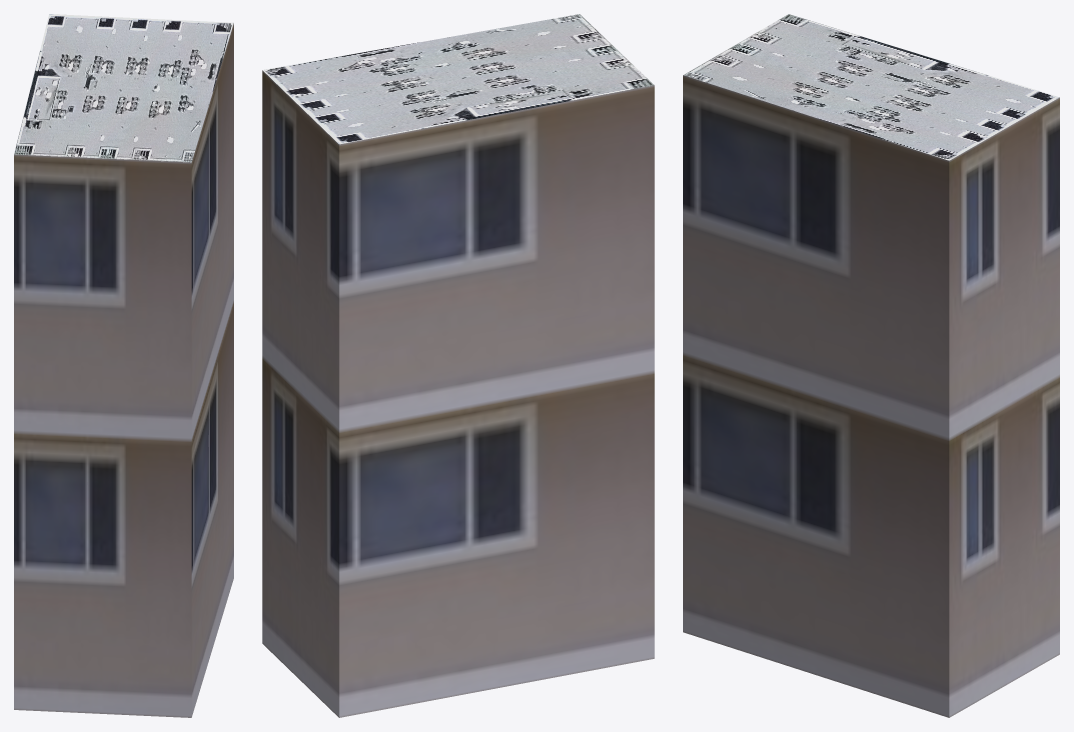
Rendered from ResTex__900.fbx.
3 views of the same model, side by side, from view 1: azimuth 30°, elevation 25°; view 2: azimuth 150°, elevation 25°; view 3: azimuth 270°, elevation 25° (orthographic). The views are drawn at different scales.
Parts seen in each view (by area): view 1: CityEngineMaterial_21_m, CityEngineMaterial_2_m; view 2: CityEngineMaterial_21_m, CityEngineMaterial_2_m; view 3: CityEngineMaterial_21_m, CityEngineMaterial_2_m.
Boxes of the visible parts, bbox=[...] form: CityEngineMaterial_21_m: bbox=[14, 23, 233, 717]; CityEngineMaterial_2_m: bbox=[14, 14, 233, 162]; CityEngineMaterial_21_m: bbox=[262, 70, 654, 717]; CityEngineMaterial_2_m: bbox=[262, 14, 654, 144]; CityEngineMaterial_21_m: bbox=[683, 75, 1059, 717]; CityEngineMaterial_2_m: bbox=[683, 14, 1059, 160].
Size of the model in its own units: 3.39 by 6 by 3.68.
2 materials, 2 textured.
